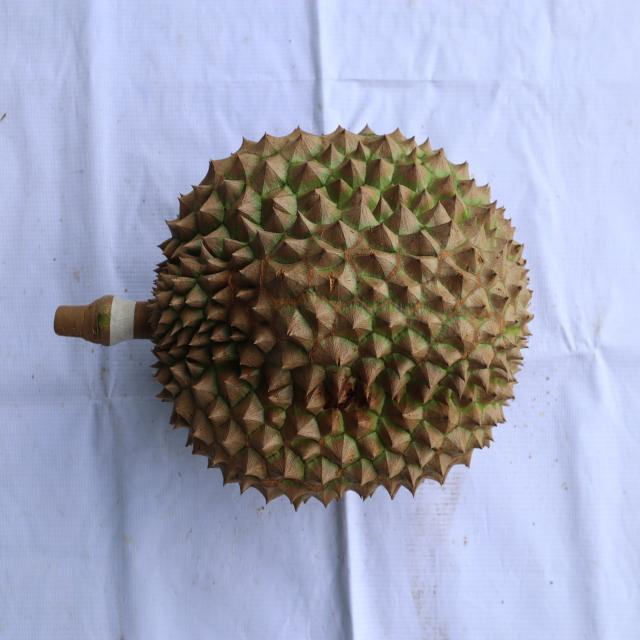mature: (145, 124, 537, 512)
